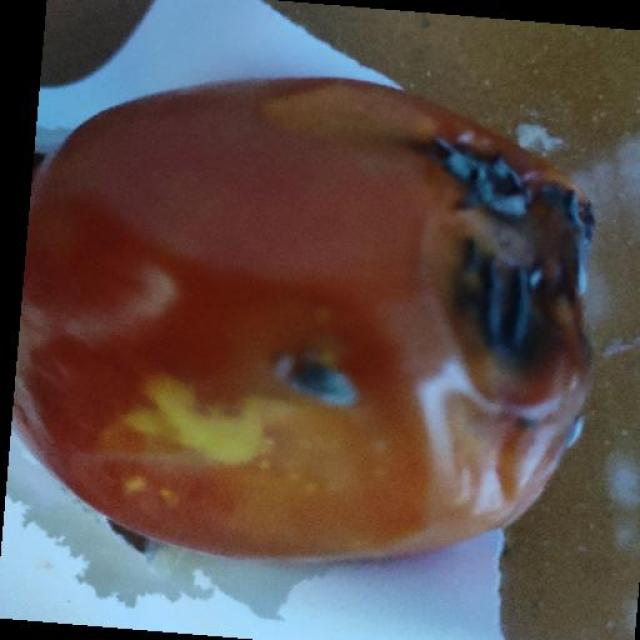Stale_tomato: (39, 100, 579, 560)
